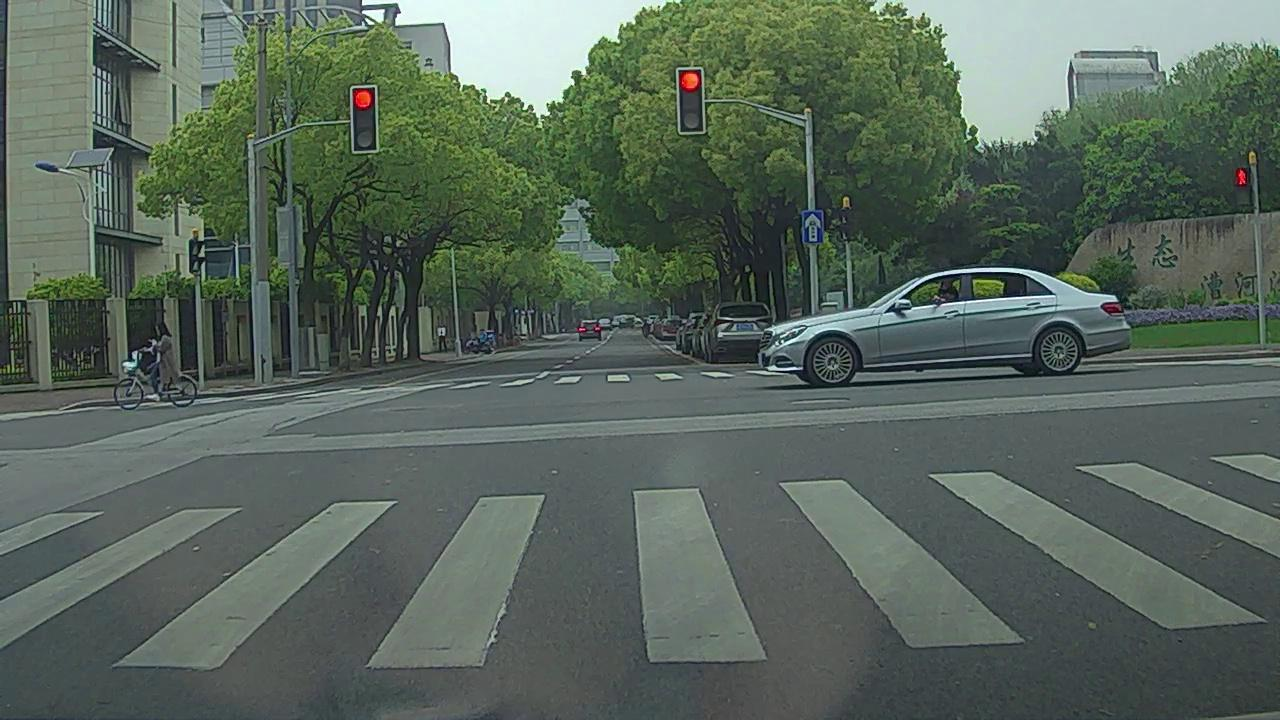traffic_light: (679, 70, 703, 132), (354, 87, 377, 150)
